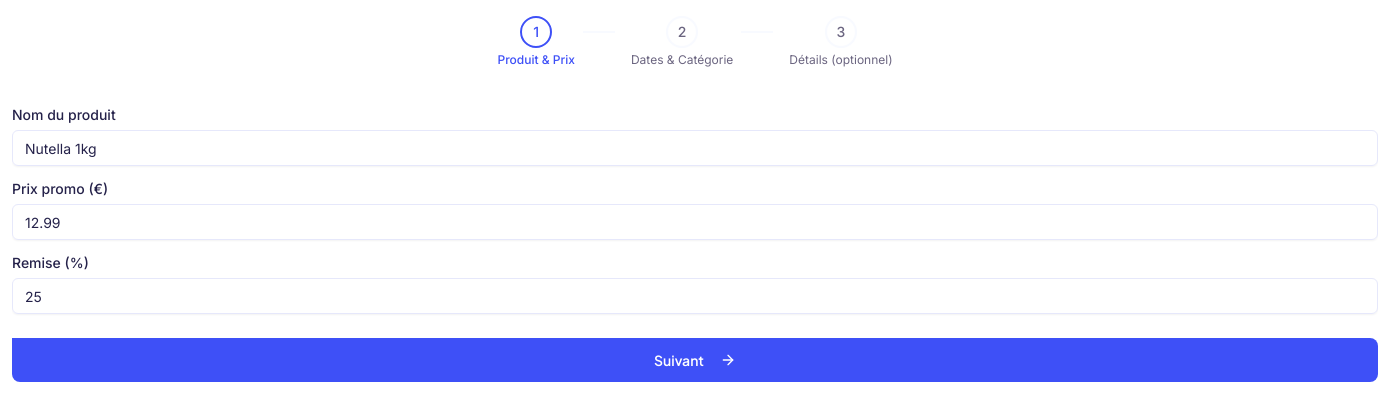
EditOfferForm › step navigation › can navigate back from step 2 to step 1
Step 1. Click the button "Suivant" → (695, 360), box 12,338 -> 1378,382
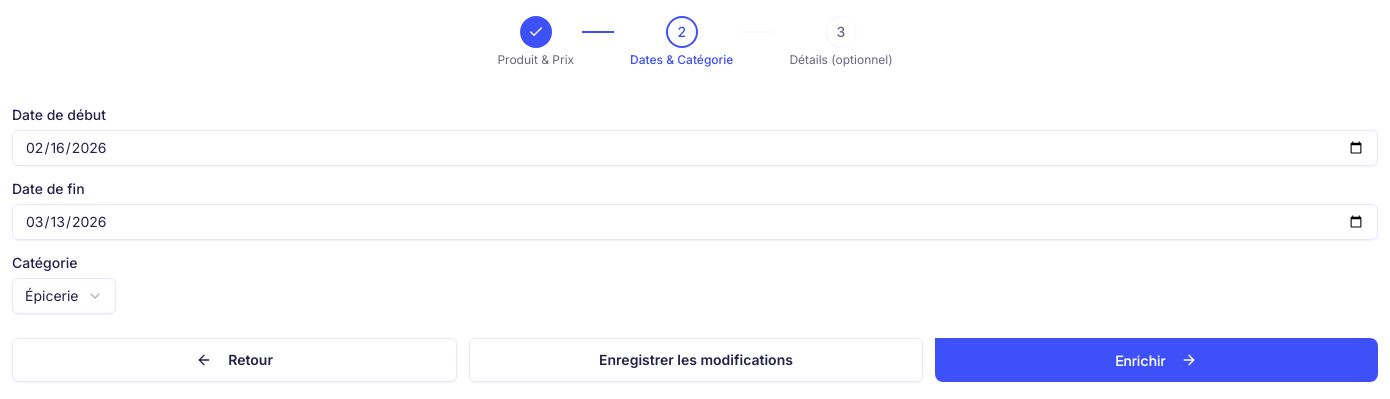
Expected: the date field labelled "Date de début" is shown, 12,130 -> 1378,166
Step 2. Click the button "Retour" → (235, 360), box 12,338 -> 457,382
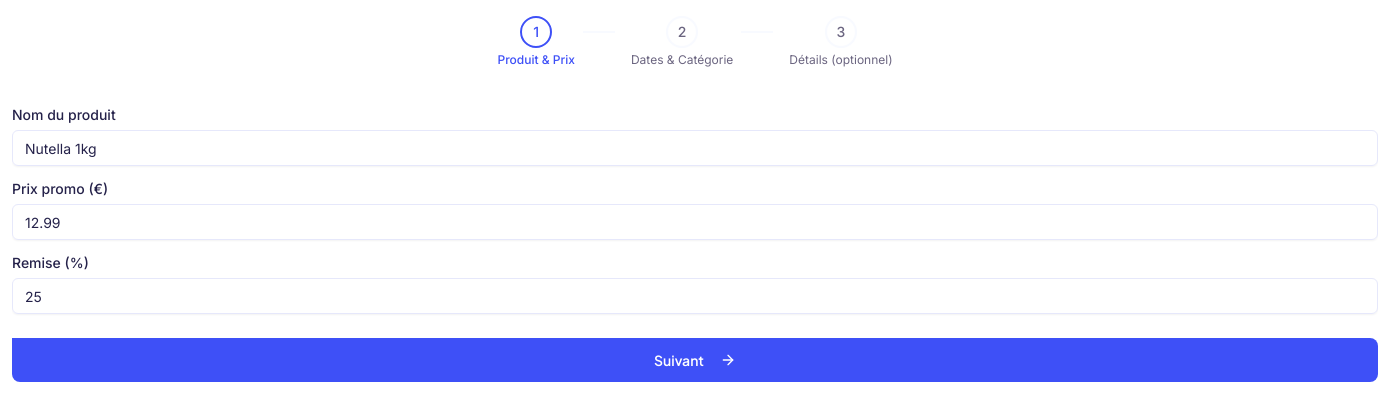
Expected: the field showing "Nutella 1kg" is shown, 12,130 -> 1378,166
